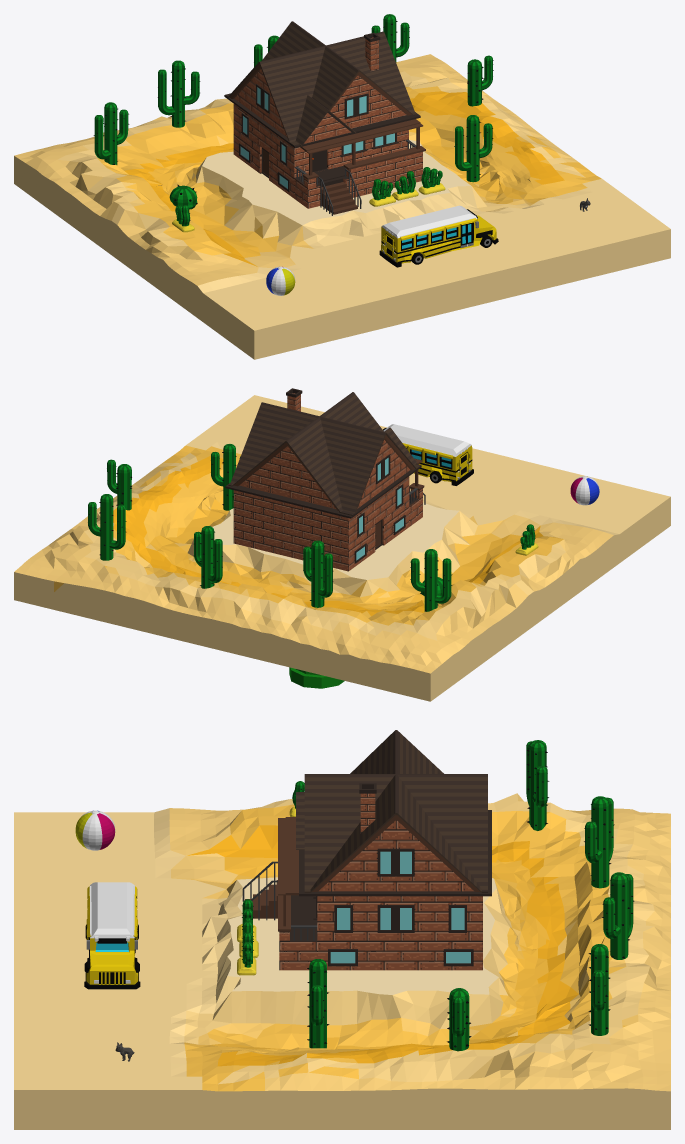
3 views of the same model, one above another, from view 1: azimuth 30°, elevation 25°; view 2: azimuth 150°, elevation 25°; view 3: azimuth 270°, elevation 25° (orthographic). The views are drawn at different scales.
Parts seen in each view (by area): view 1: Cube.001, Cube.469, VEHICLES_SCHOOL_BUS, Cylinder.037, Cylinder.044, Cylinder.045, Cylinder.038, Cylinder.042, OBJRANDOM_BEACHBALL, Cylinder.039, Cylinder.041, Sphere.023 (+1 smaller); view 2: Cube.001, Cube.469, VEHICLES_SCHOOL_BUS, Cylinder.042, Cylinder.045, Cylinder.044, Cylinder.043, Cylinder.037, Cylinder.038, UNDERGROUND_PIPES, OBJRANDOM_BEACHBALL; view 3: Cube.001, Cube.469, VEHICLES_SCHOOL_BUS, Cylinder.043, Cylinder.044, Cylinder.045, Cylinder.042, Cylinder.037, OBJRANDOM_BEACHBALL, Cylinder.038, Cylinder.041.
Boxes of the visible parts, x1,y1,x2,y2 form: Cube.001: (14,54,670,359); Cube.469: (224,21,425,215); VEHICLES_SCHOOL_BUS: (379,205,498,267); Cylinder.037: (454,115,493,182); Cylinder.044: (157,60,200,127); Cylinder.045: (93,102,129,164); Cylinder.038: (467,55,493,106); Cylinder.042: (371,14,409,62); OBJRANDOM_BEACHBALL: (266,266,295,295); Cylinder.039: (369,179,395,206); Cylinder.041: (418,167,445,194); Sphere.023: (169,184,197,209); Cube.001: (14,395,670,701); Cube.469: (225,388,425,571); VEHICLES_SCHOOL_BUS: (383,424,473,485); Cylinder.042: (88,494,126,560); Cylinder.045: (410,549,452,611); Cylinder.044: (303,540,333,607); Cylinder.043: (193,526,222,588); Cylinder.037: (211,444,240,510); Cylinder.038: (107,459,131,510); UNDERGROUND_PIPES: (289,667,344,688); OBJRANDOM_BEACHBALL: (570,476,599,505); Cube.001: (14,793,670,1129); Cube.469: (242,730,491,970); VEHICLES_SCHOOL_BUS: (84,882,140,989); Cylinder.043: (602,872,634,959); Cylinder.044: (584,796,614,888); Cylinder.045: (526,740,549,830); Cylinder.042: (588,944,610,1035); Cylinder.037: (307,959,329,1048); OBJRANDOM_BEACHBALL: (75,810,115,850); Cylinder.038: (447,988,471,1051); Cylinder.041: (237,932,256,975).
Size of the model in its own units: 4002 by 2210 by 4001.
33 materials, 3 textured.
